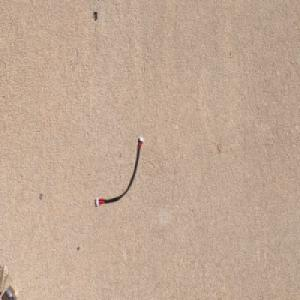Wire: (94, 135, 143, 208)
